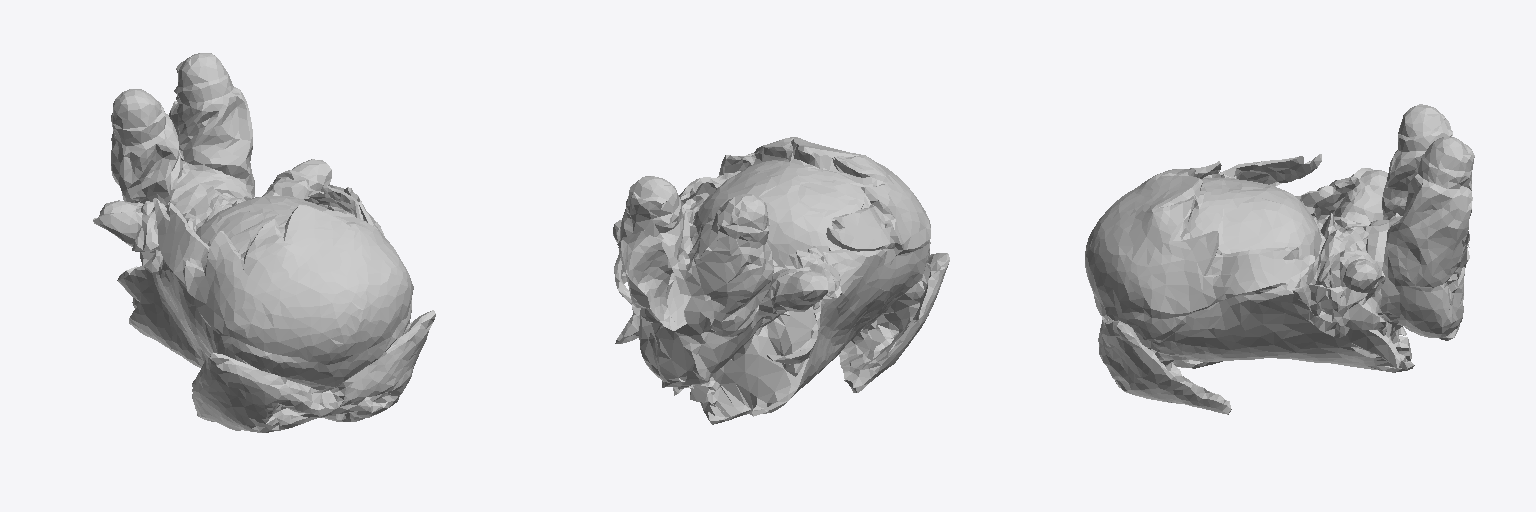
File: mokou.obj
3 renders of one model, left to right at view 1: azimuth 30°, elevation 25°; view 2: azimuth 150°, elevation 25°; view 3: azimuth 270°, elevation 25°, orthographic.
Parts seen in each view (by area): view 1: mokou_low; view 2: mokou_low; view 3: mokou_low.
Boxes of the visible parts, box(x1,y1,x2,y2) form: mokou_low: box(93, 53, 435, 432); mokou_low: box(613, 137, 949, 424); mokou_low: box(1085, 104, 1474, 414).
Bounding box in the file's own units: 19.47 × 21.35 × 28.51.